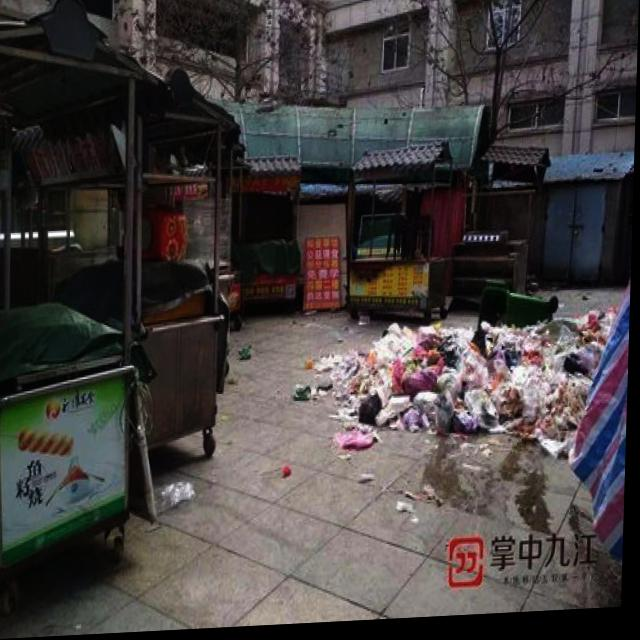garbage: (293, 316, 617, 465)
